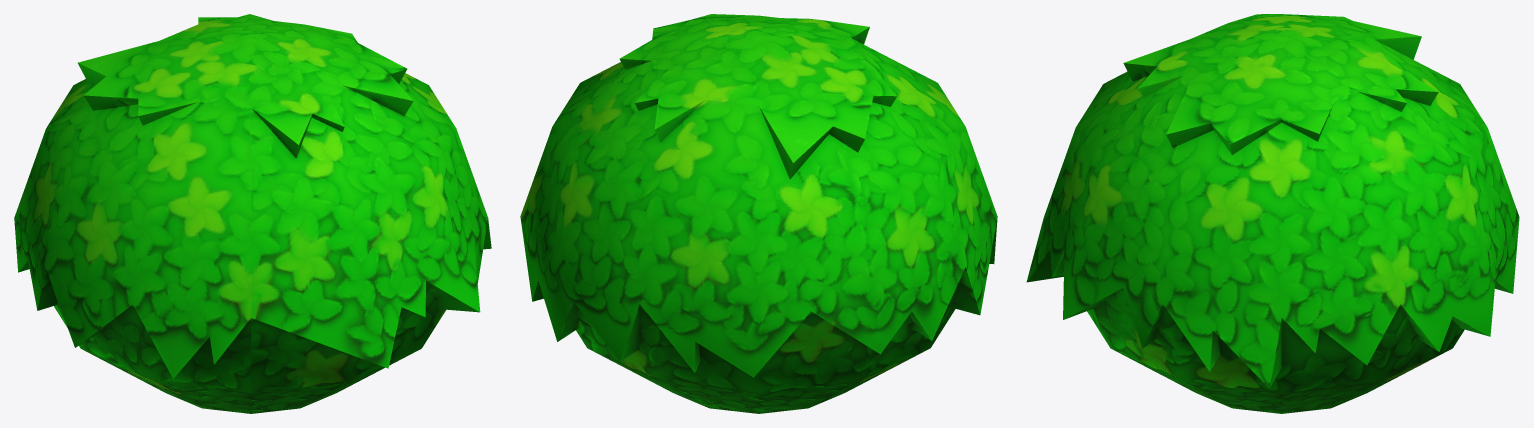
Rendered from Bush01.FBX.
3 renders of one model, left to right at view 1: azimuth 30°, elevation 25°; view 2: azimuth 150°, elevation 25°; view 3: azimuth 270°, elevation 25°, orthographic.
Parts seen in each view (by area): view 1: Bush01; view 2: Bush01; view 3: Bush01.
Boxes of the visible parts, left/top/right/bottom form: Bush01: left=14, top=14, right=491, bottom=413; Bush01: left=520, top=14, right=997, bottom=413; Bush01: left=1026, top=14, right=1519, bottom=413.
Size of what is drawn, in the model's own units: 1.46 by 1.09 by 1.46.
